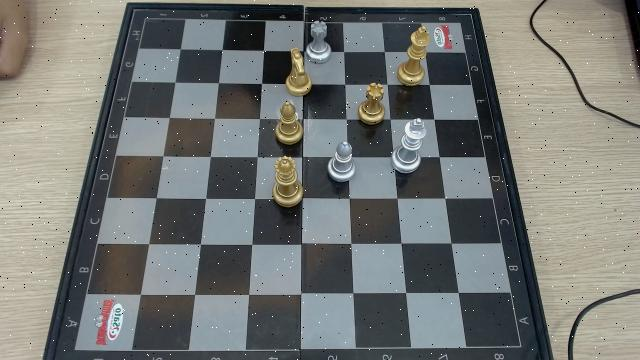black_bishop: (272, 102, 305, 145)
black_king: (397, 27, 435, 87)
black_knight: (284, 48, 313, 96)
black_queen: (273, 158, 304, 209)
black_rook: (357, 82, 390, 125)
white_bishop: (328, 143, 359, 183)
white_king: (390, 117, 427, 174)
white_rook: (306, 21, 332, 64)
